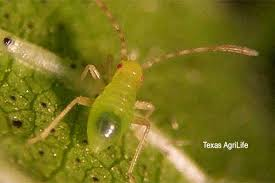Thrips: (51, 43, 178, 161)
